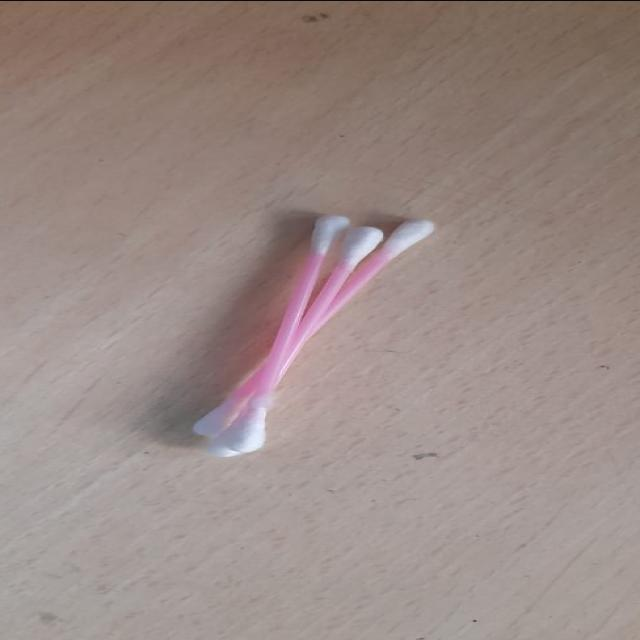Earbud - Non Recyclable: (187, 212, 440, 458)
